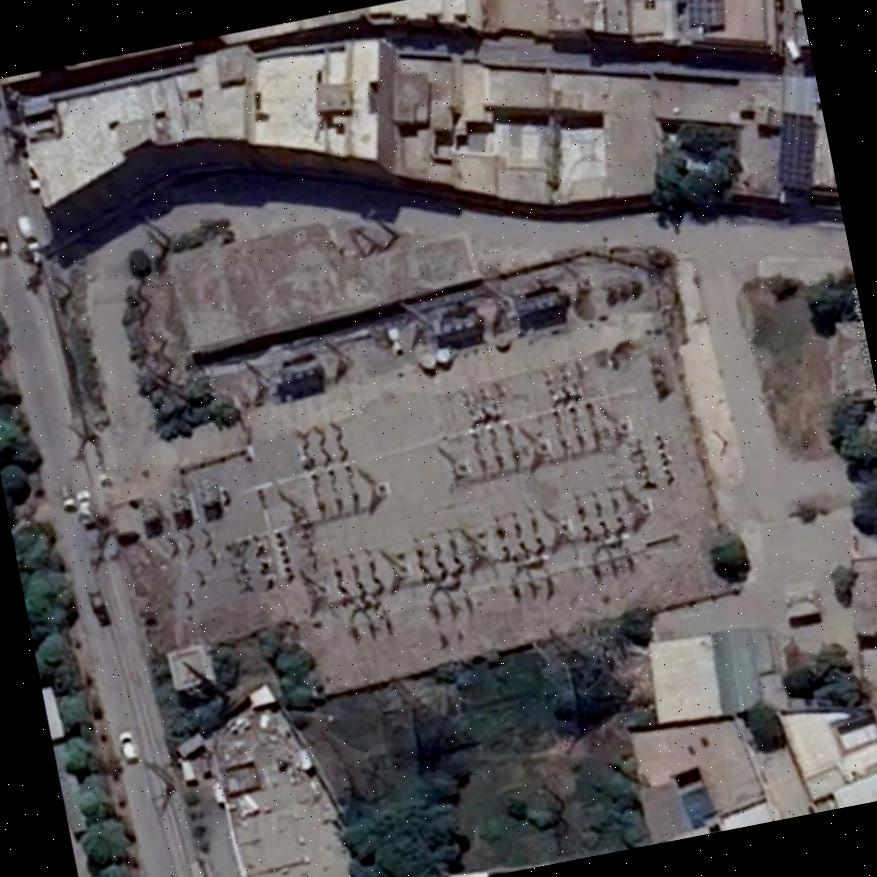Solarpanel: (777, 109, 817, 188), (687, 0, 719, 25)
